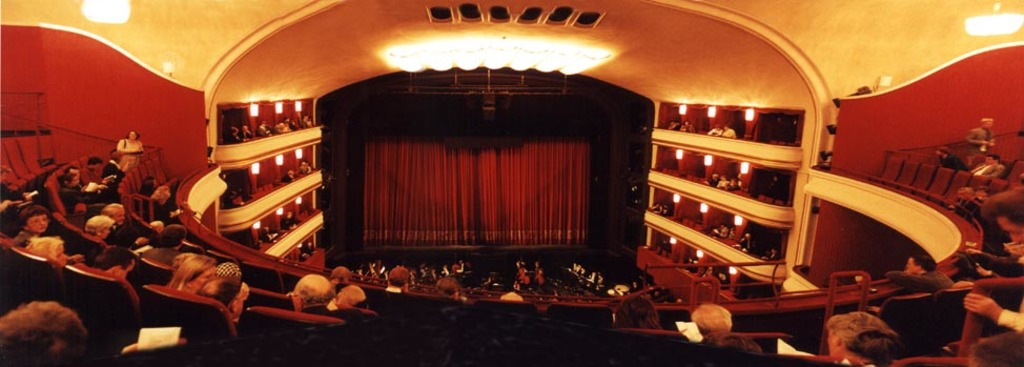Person: (0, 110, 1024, 367)
